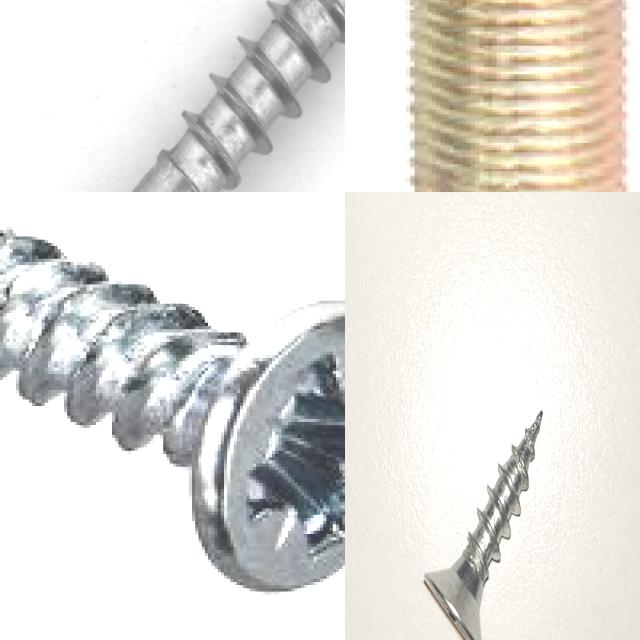Screw: (0, 220, 345, 592), (0, 0, 345, 192), (404, 0, 629, 192), (424, 410, 543, 640)
